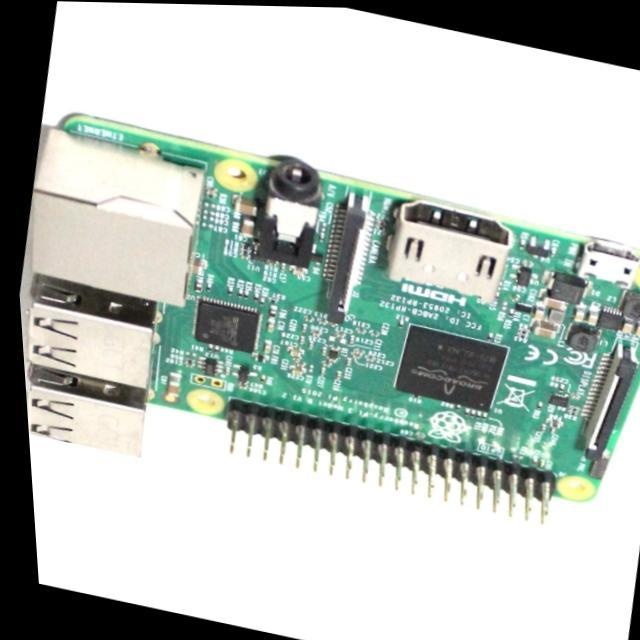Raspberry-Pi-3-B: (28, 114, 640, 521)
